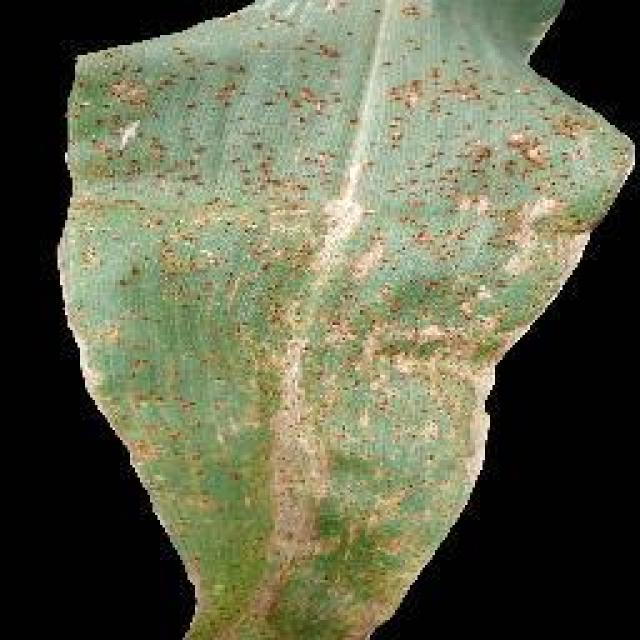Corn Common Rust: (77, 40, 465, 640)
